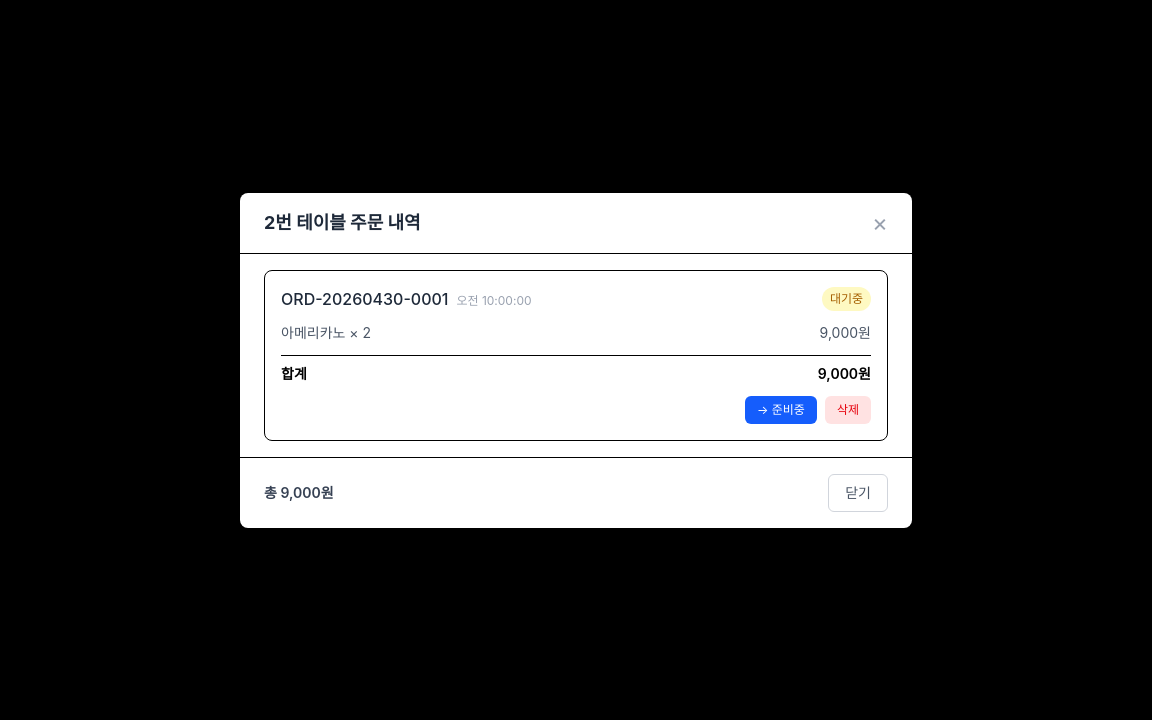
Test case: OrderDetailModal › 삭제 취소 버튼 클릭 시 팝업이 닫힌다
Step 1. Click the button with test id "order-delete-button-10" → (848, 410), box [825,396,871,424]
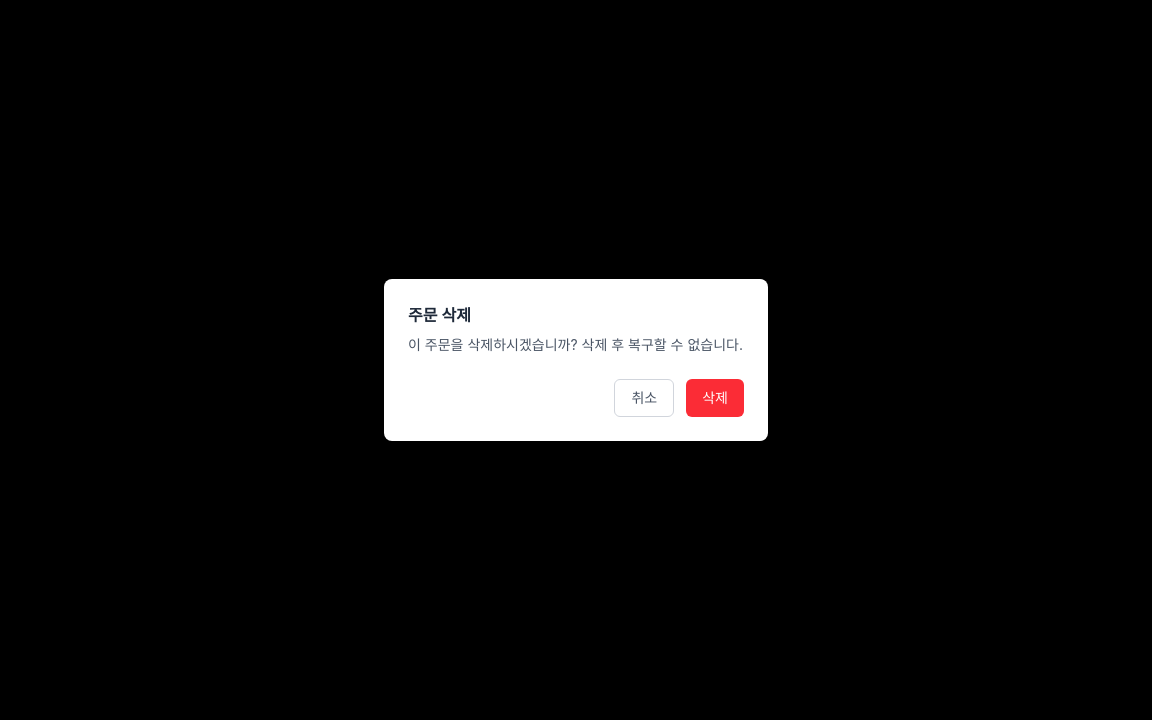
Step 2. Click the button with test id "delete-confirm-cancel-button" → (644, 398), box [614,379,674,417]
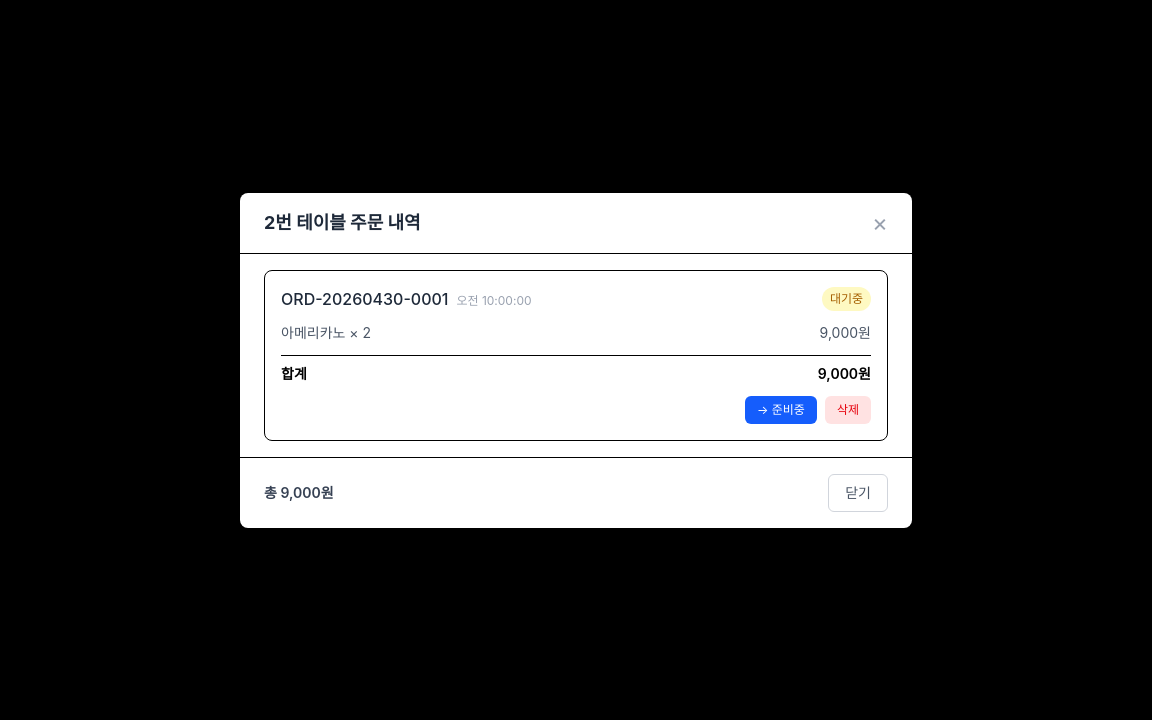
Result: the element with test id "delete-confirm-modal" is gone
